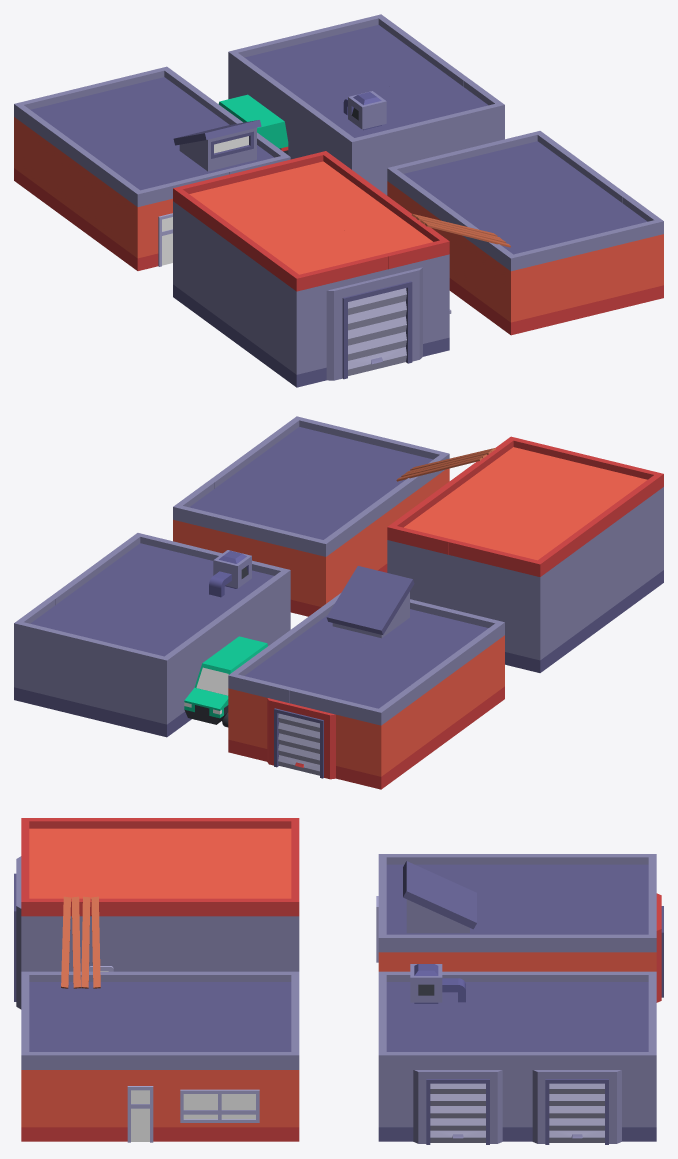
Rendered from CityBlock_005.fbx.
The picture shows the model from 3 angles, top to bottom: view 1: azimuth 30°, elevation 25°; view 2: azimuth 150°, elevation 25°; view 3: azimuth 270°, elevation 25°; orthographic projection. The views are drawn at different scales.
Parts seen in each view (by area): view 1: mergedBlocks; view 2: mergedBlocks; view 3: mergedBlocks.
Part boxes in pixels (left/top/right/bottom): mergedBlocks: left=14, top=14, right=663, bottom=387; mergedBlocks: left=14, top=416, right=663, bottom=789; mergedBlocks: left=14, top=818, right=663, bottom=1144.
Bounding box in the file's own units: 305 × 87.59 × 409.
